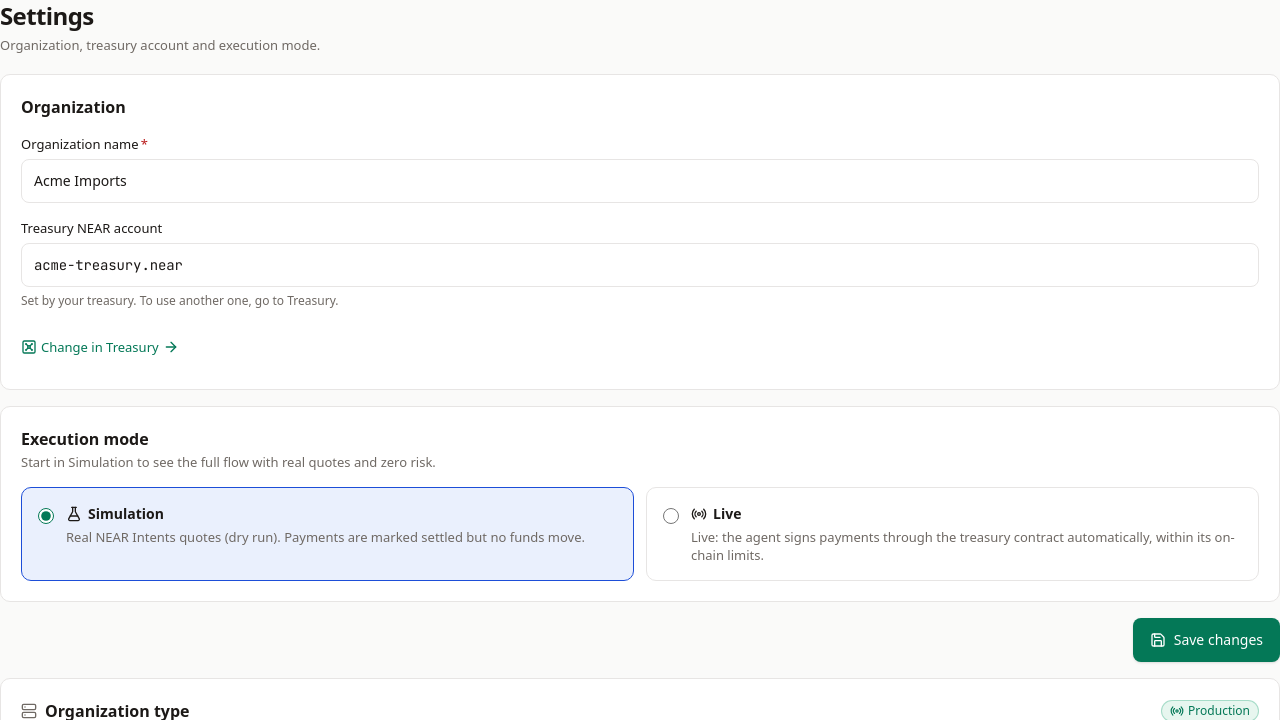
Test: settings: treasury › drops the approval line when the threshold is at or above the max per payment (nothing can reach it)
Click the radio button with test id "mode-live" at (671, 516), box [663,508,679,524]
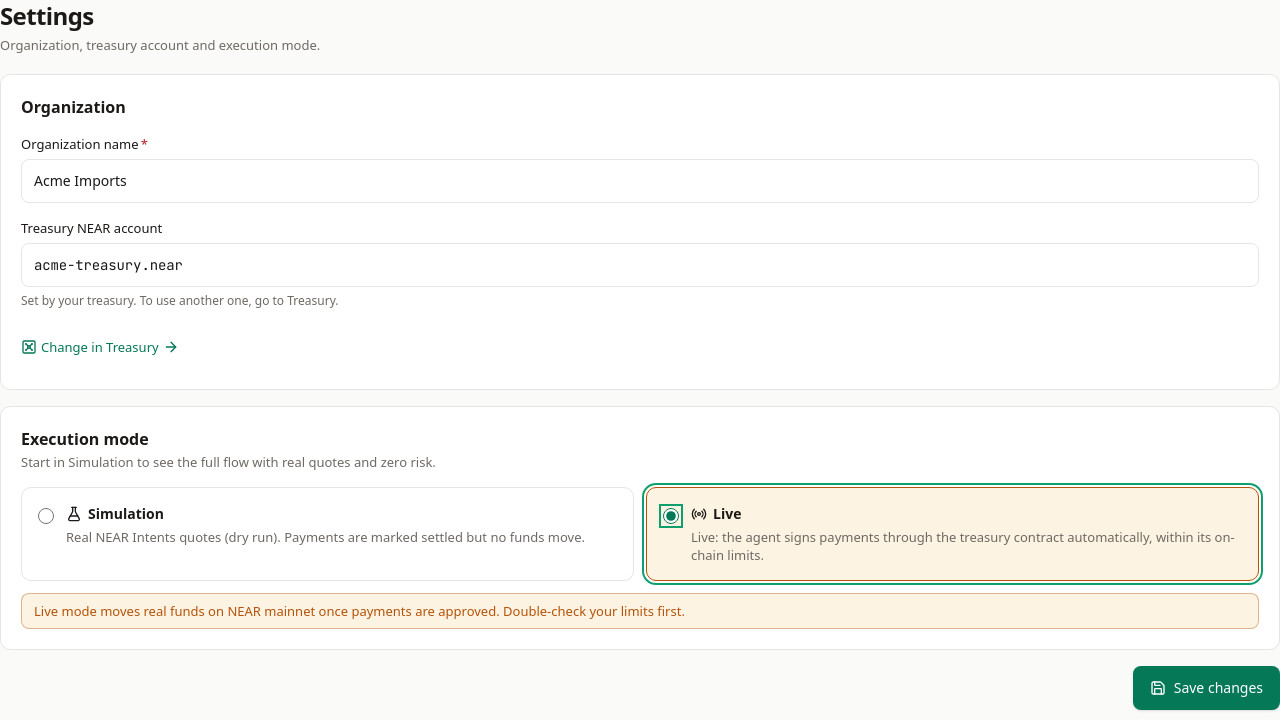
Click the button "Save changes" at (1206, 688), box [1133,666,1279,710]
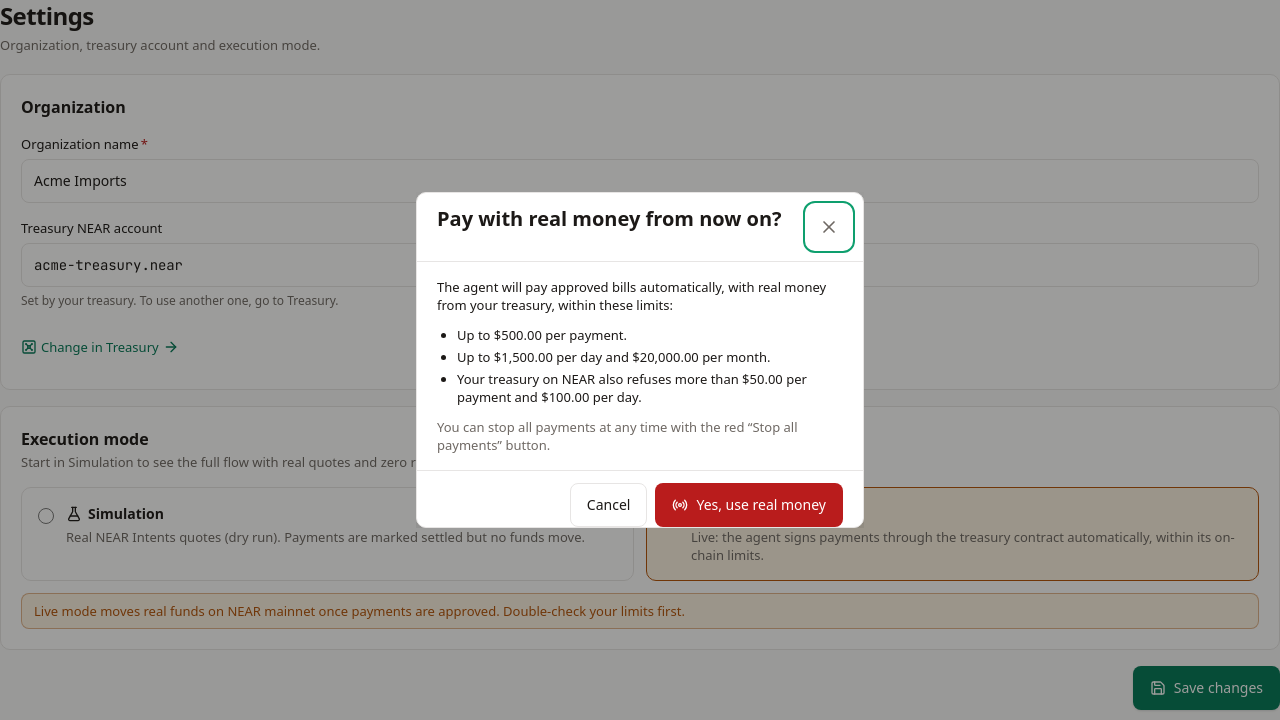
Expected: the list with test id "live-confirm-limits" does not show "wait for", [437,326,843,406]
Expected: the list with test id "live-confirm-limits" shows "Up to $500.00 per payment.", [457,326,627,344]
Expected: the list with test id "live-confirm-limits" shows "Up to $1,500.00 per day and $20,000.00 per month.", [457,348,770,366]
